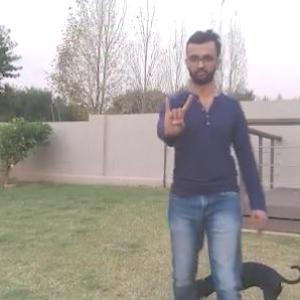takeoff-hand: (154, 86, 202, 140)
